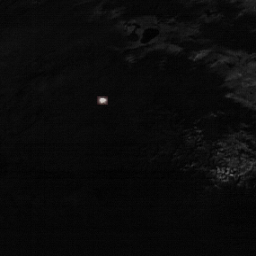Target: (96, 96, 108, 104)
